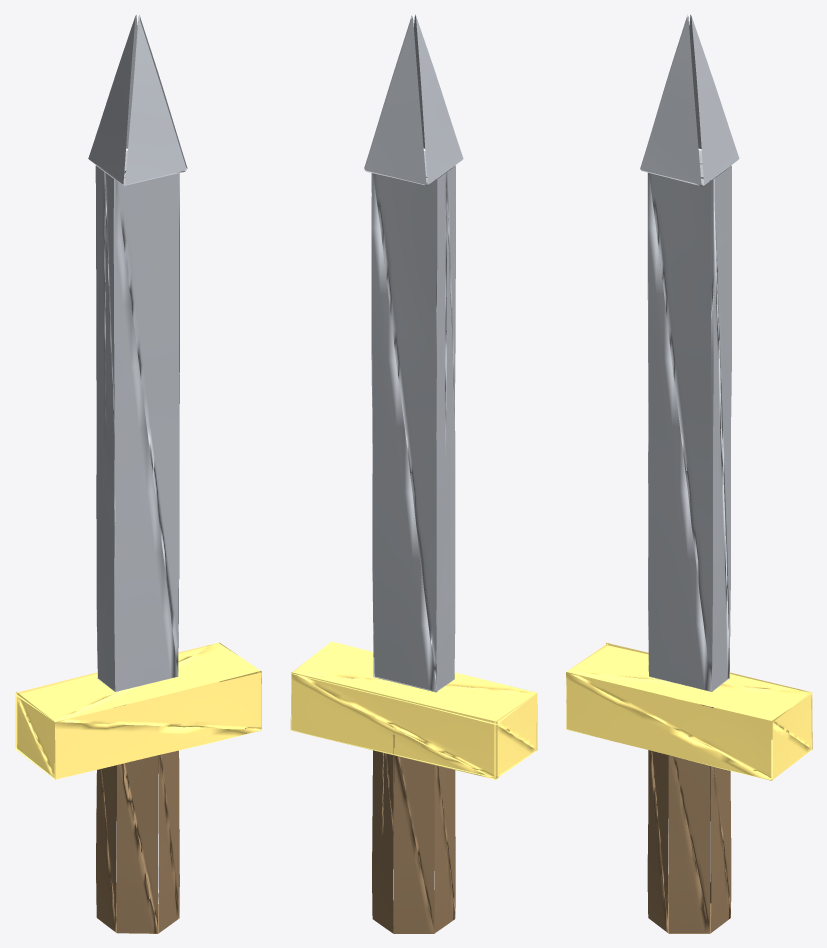
Rendered from dagger.glb.
The picture shows the model from 3 angles, left to right: view 1: azimuth 30°, elevation 25°; view 2: azimuth 150°, elevation 25°; view 3: azimuth 330°, elevation 25°; orthographic projection.
Visible parts, largest first — view 1: DaggerGrip; view 2: DaggerGrip; view 3: DaggerGrip.
Boxes of the visible parts, x1=… form: DaggerGrip: x1=14, y1=15, x2=261, y2=933; DaggerGrip: x1=290, y1=14, x2=537, y2=933; DaggerGrip: x1=566, y1=15, x2=812, y2=933.
Size of the model in its own units: 0.2627 by 1.09 by 0.0925.
